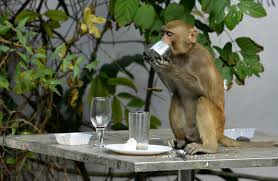monkey: (74, 12, 249, 142)
